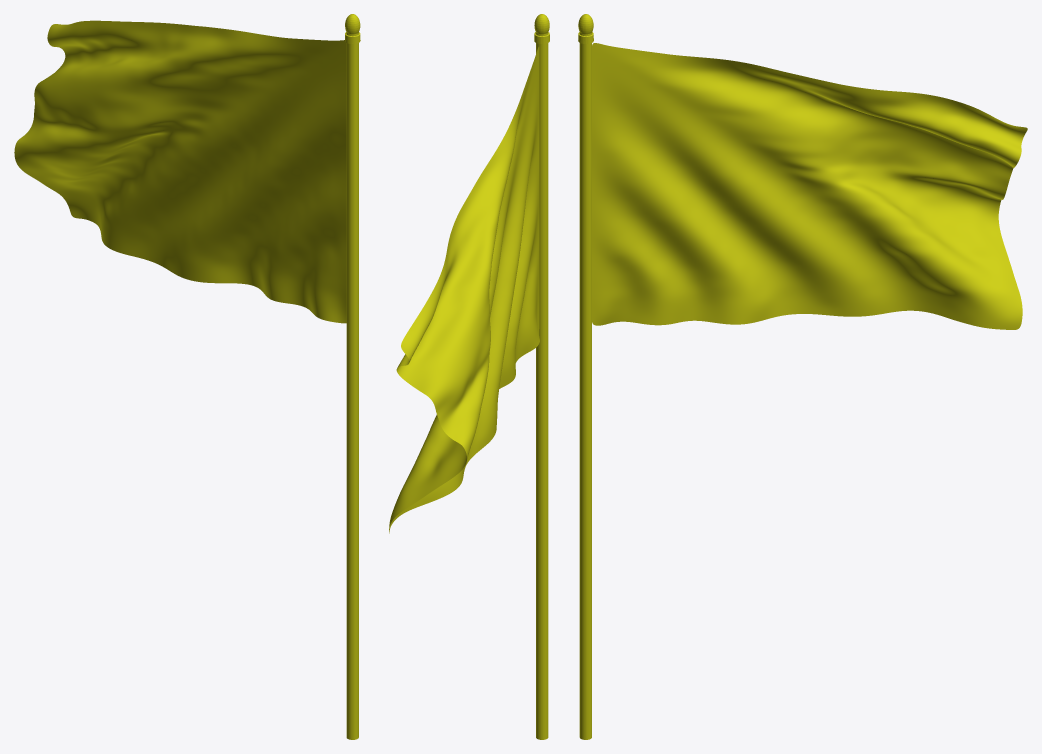
Rendered from yelow_flag.glb.
3 renders of one model, left to right at view 1: azimuth 30°, elevation 25°; view 2: azimuth 150°, elevation 25°; view 3: azimuth 270°, elevation 25°, orthographic.
Visible parts, largest first — view 1: steag, stick; view 2: steag, stick; view 3: steag, stick.
Part boxes in pixels (x1,y1,x2,y2): steag: [14, 20, 346, 323]; stick: [345, 14, 360, 739]; steag: [389, 47, 539, 533]; stick: [534, 14, 549, 739]; steag: [592, 43, 1027, 329]; stick: [578, 14, 593, 739].
Bounding box in the file's own units: 0.4066 × 2.03 × 1.14.
